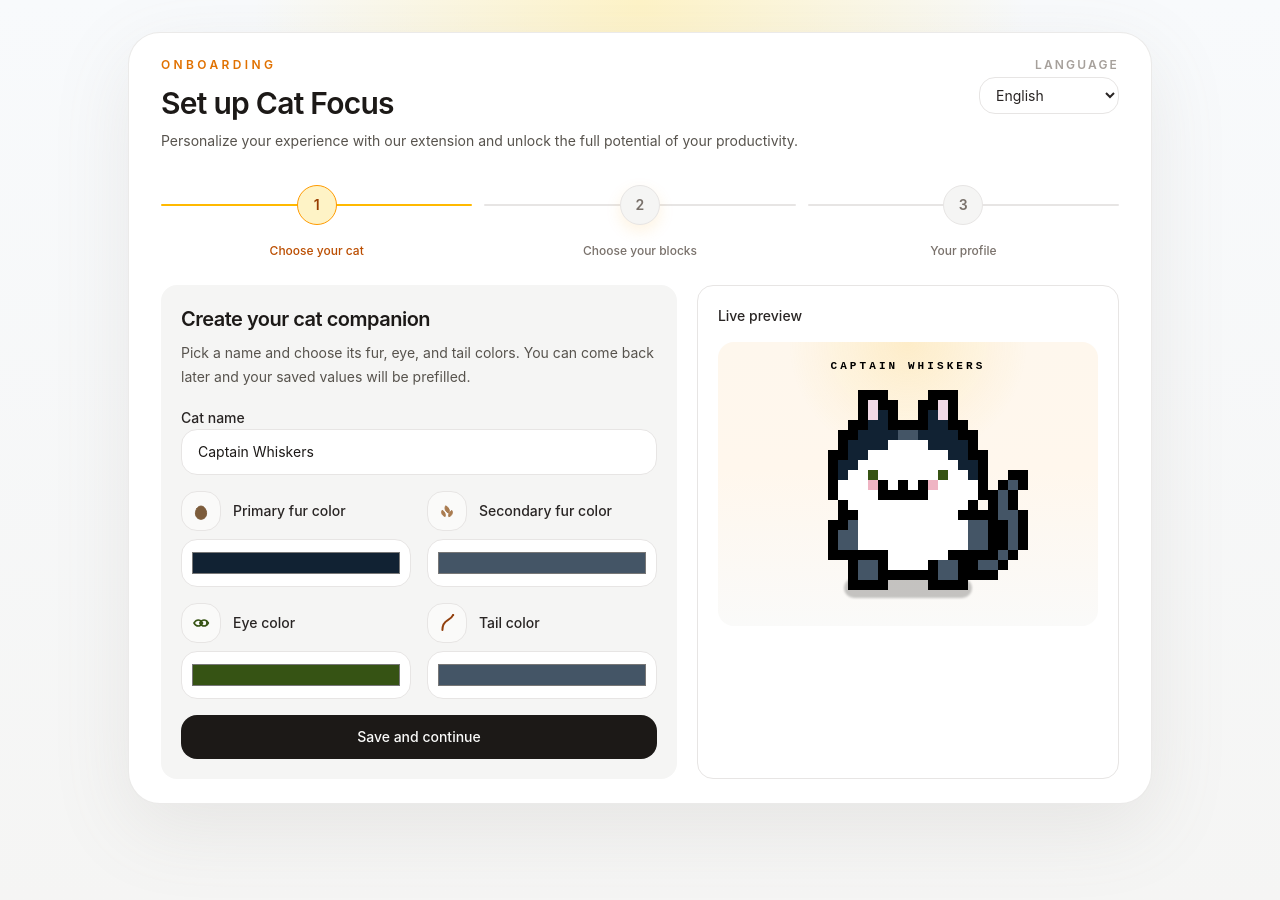
Test case: onboarding flow › prefills saved data and advances after a valid submit
Replace the text in the field showing "Captain Whiskers" with "  Luna   Ray " at (419, 452), box [181,429,657,475]
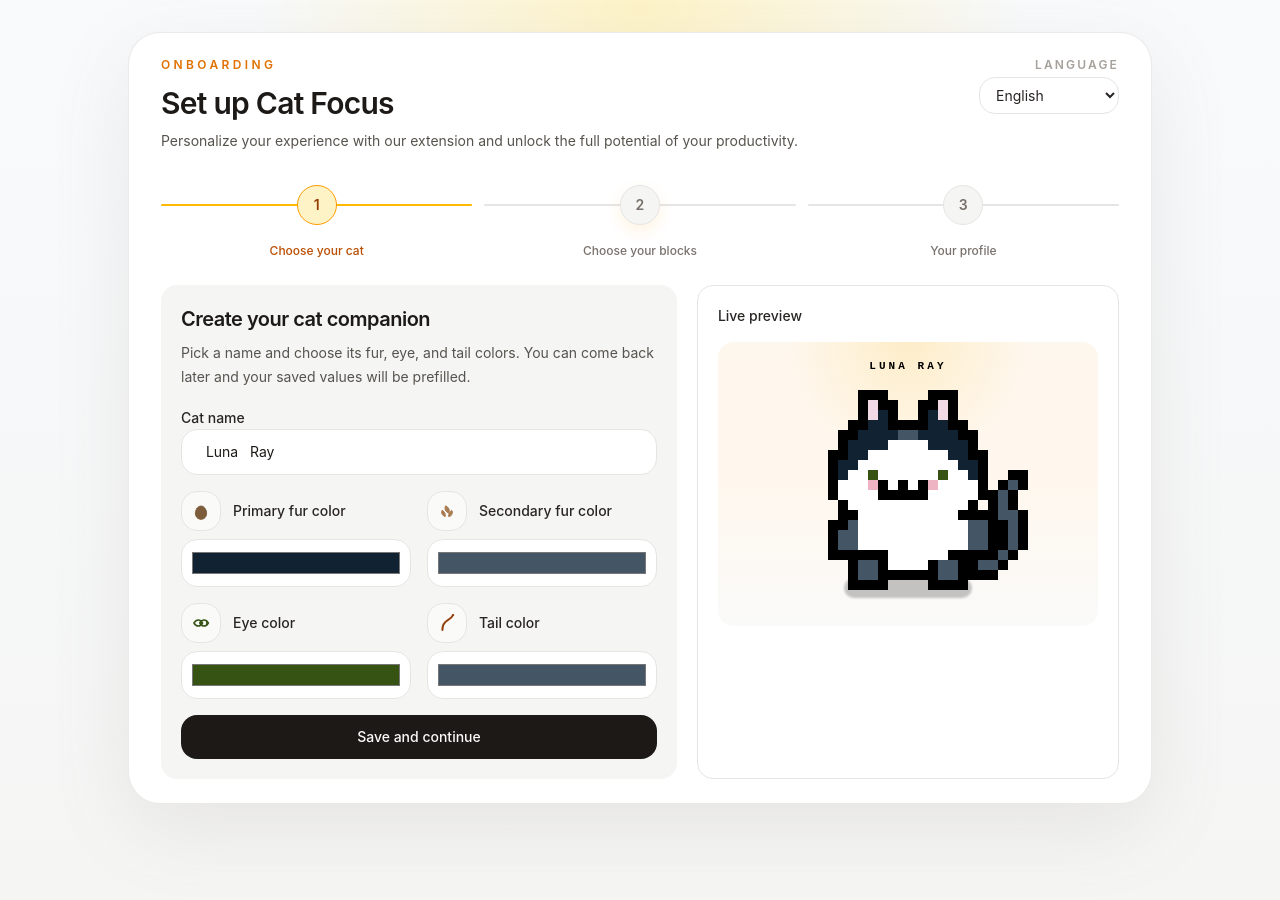
Click the button "Save and continue" at (419, 737), box [181,715,657,759]
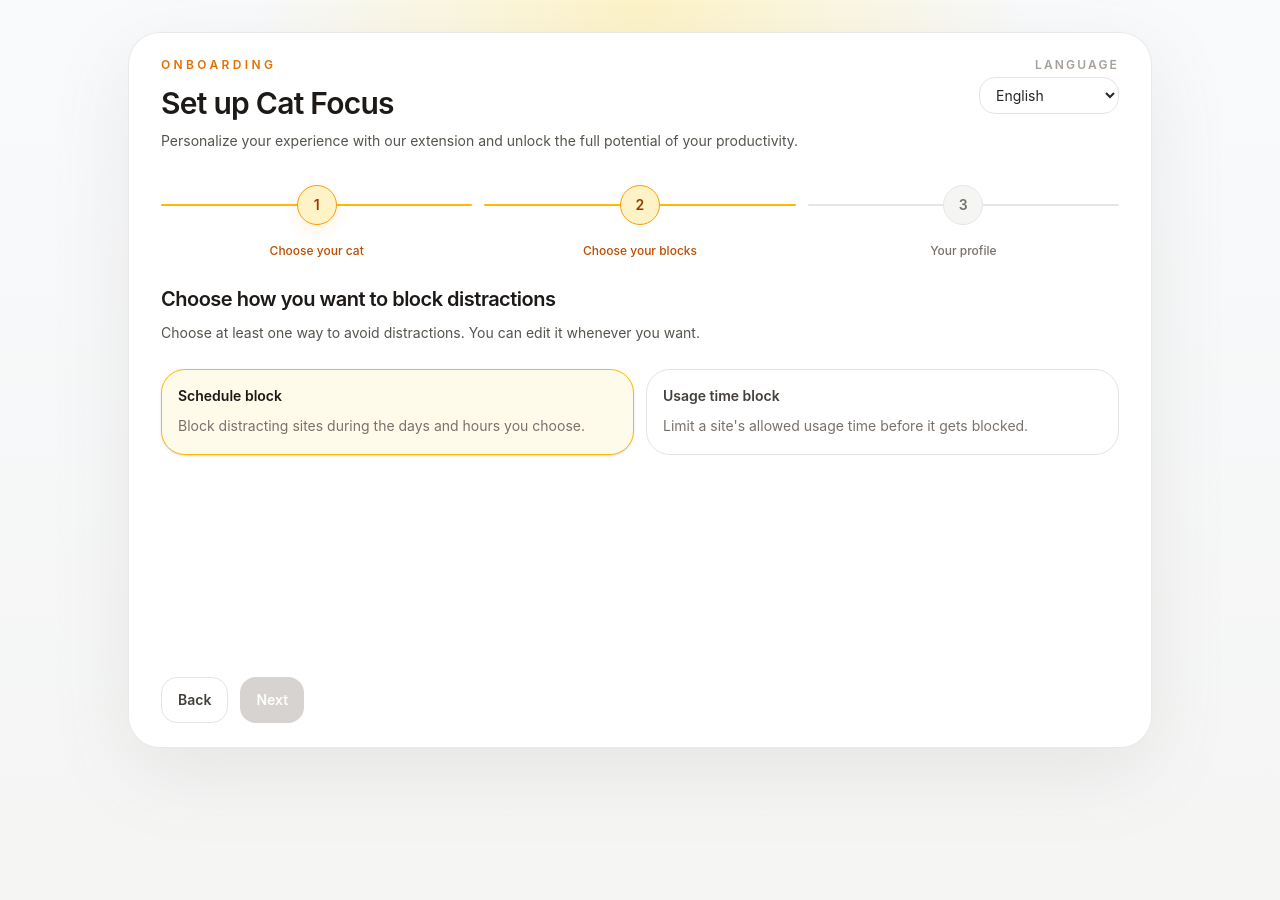
Now the heading "Choose how you want to block distractions" is shown, box [161,287,556,311]
